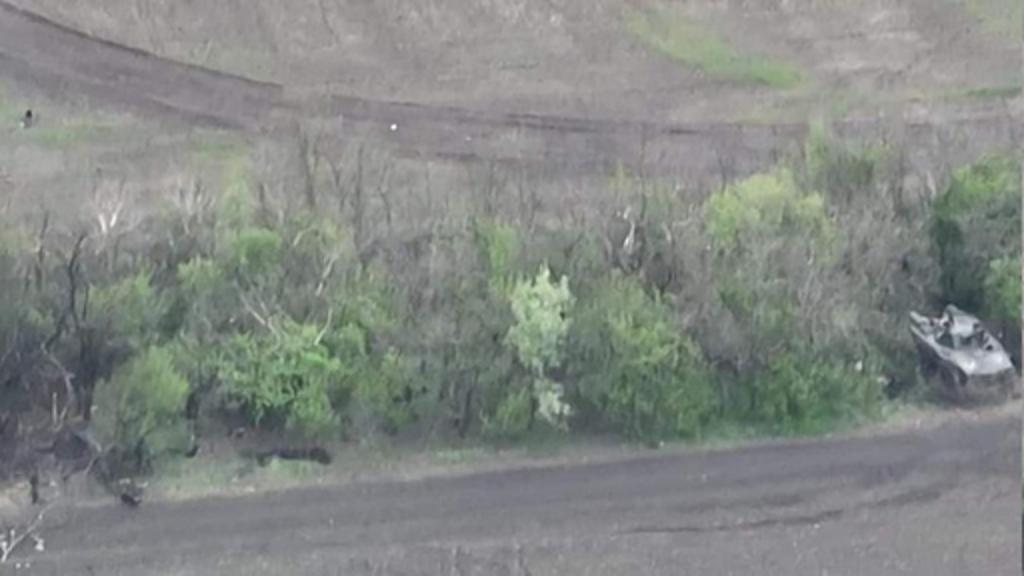APC-IFV: (904, 304, 1020, 404)
